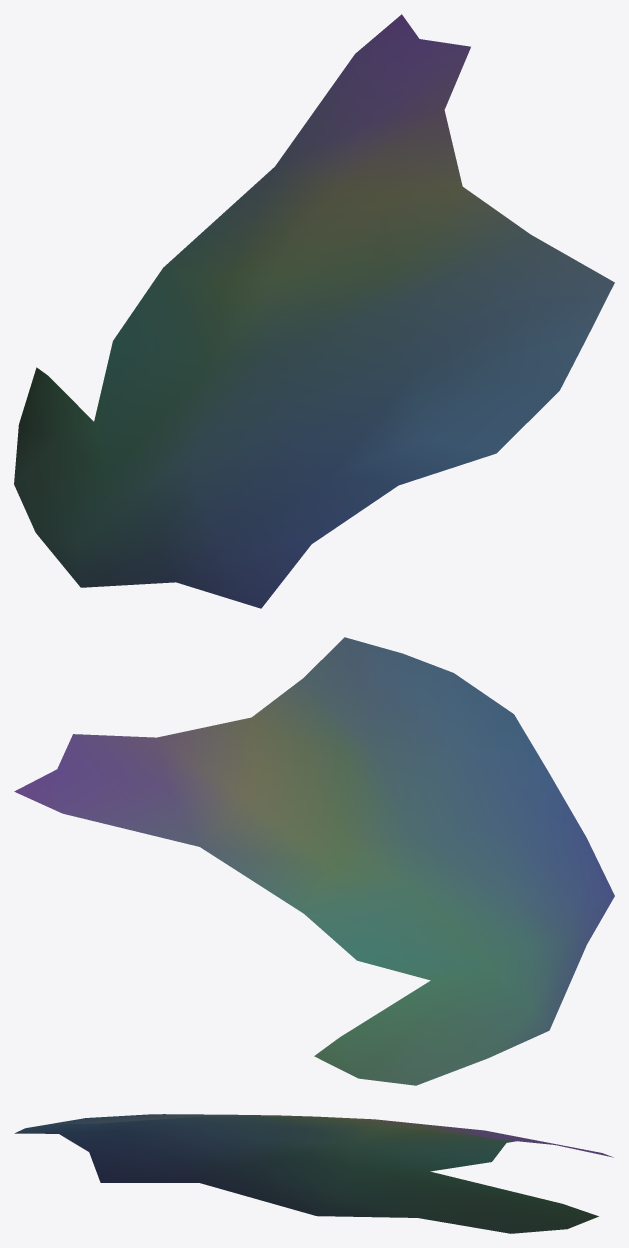
The model's file is space-nebulae-nebula_v60.glb.
3 renders of one model, top to bottom at view 1: azimuth 30°, elevation 25°; view 2: azimuth 150°, elevation 25°; view 3: azimuth 270°, elevation 25°, orthographic. The views are drawn at different scales.
Parts seen in each view (by area): view 1: Nebula_v60; view 2: Nebula_v60; view 3: Nebula_v60.
Part boxes in pixels (bbox=[...]): Nebula_v60: bbox=[14, 14, 614, 608]; Nebula_v60: bbox=[14, 637, 614, 1085]; Nebula_v60: bbox=[14, 1114, 613, 1233].
Size of the model in its own units: 0.3952 by 0.2538 by 0.5.
